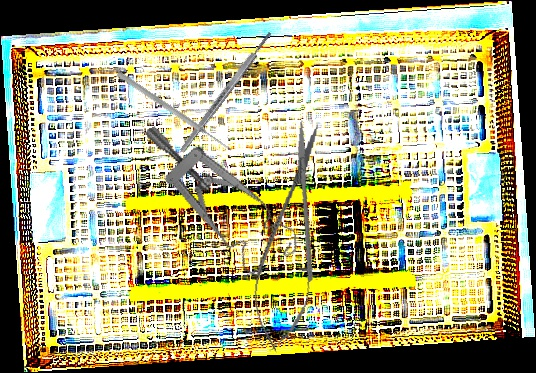Micro Scissor: (243, 115, 340, 357)
Pusher: (115, 70, 235, 154)
Scalpel Handle: (178, 30, 274, 154)
Speculum: (144, 92, 305, 295)
